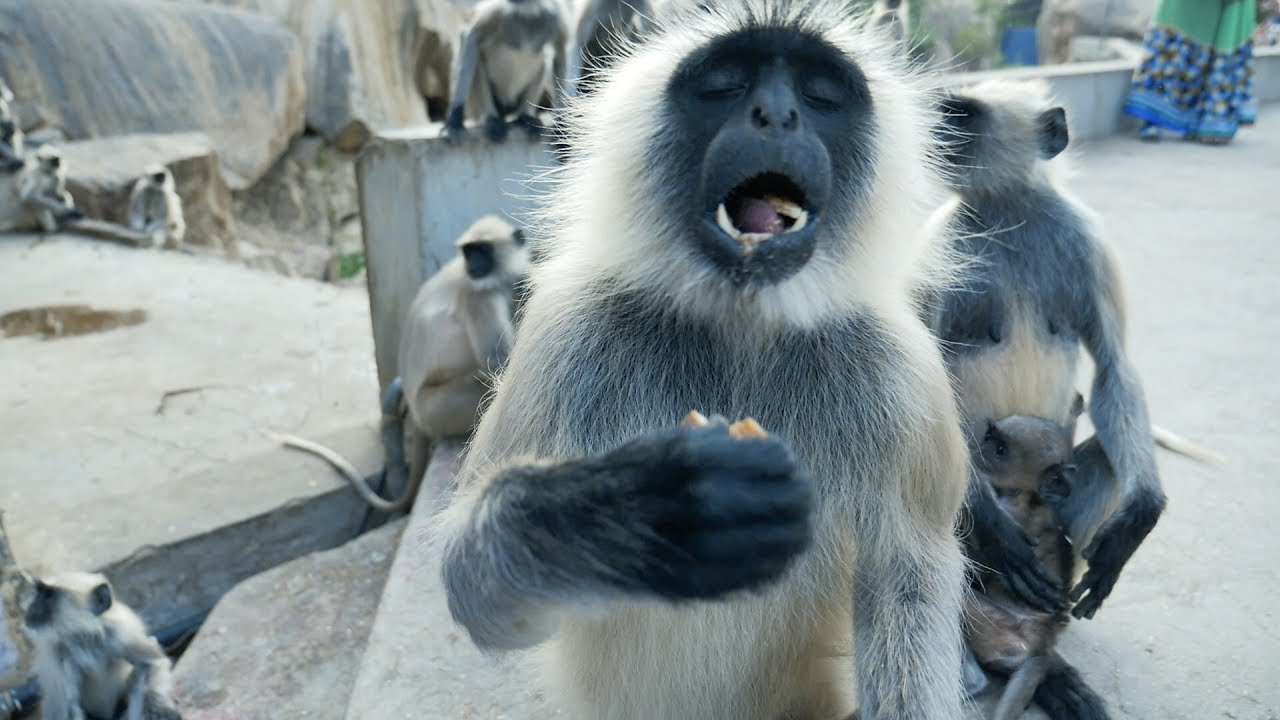langur: (356, 18, 978, 720), (898, 57, 1166, 620), (307, 212, 545, 526), (945, 399, 1086, 706), (16, 567, 170, 720), (438, 1, 577, 140), (18, 132, 75, 242), (120, 169, 189, 252)
